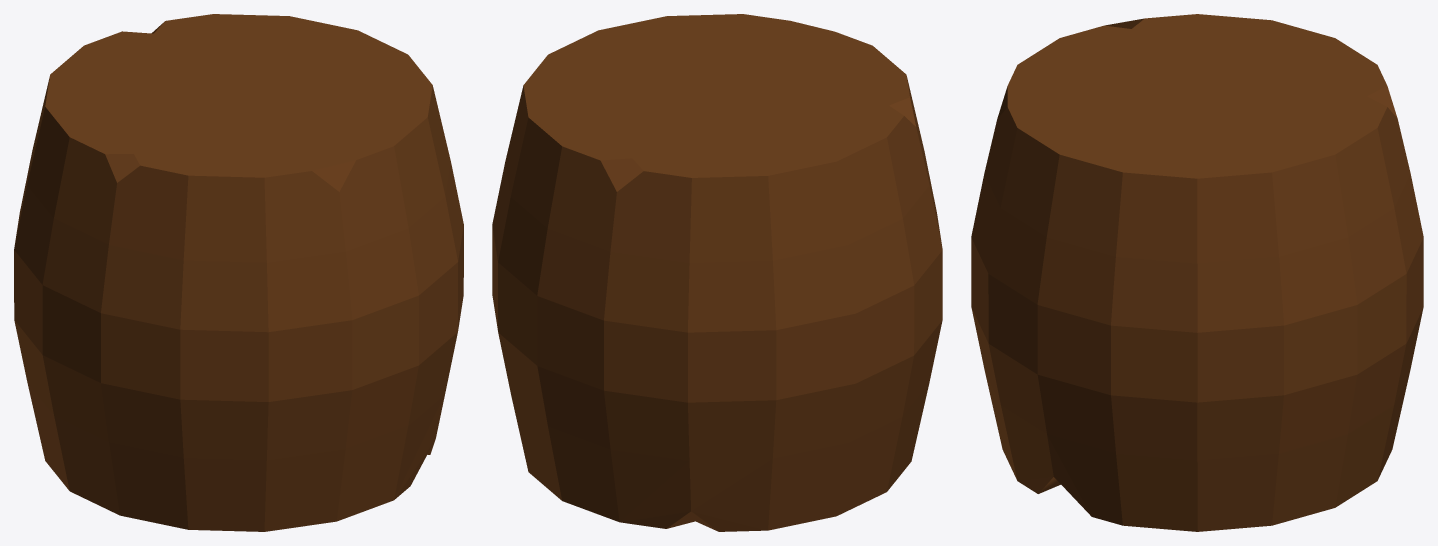
The model's file is can1.glb.
3 views of the same model, side by side, from view 1: azimuth 30°, elevation 25°; view 2: azimuth 150°, elevation 25°; view 3: azimuth 270°, elevation 25° (orthographic).
Parts seen in each view (by area): view 1: barrel; view 2: barrel; view 3: barrel.
Part boxes in pixels (x1,y1,x2,y2): barrel: (14, 14, 463, 531); barrel: (492, 14, 942, 531); barrel: (971, 14, 1423, 531).
Bounding box in the file's own units: 0.2741 × 0.2361 × 0.2741.
